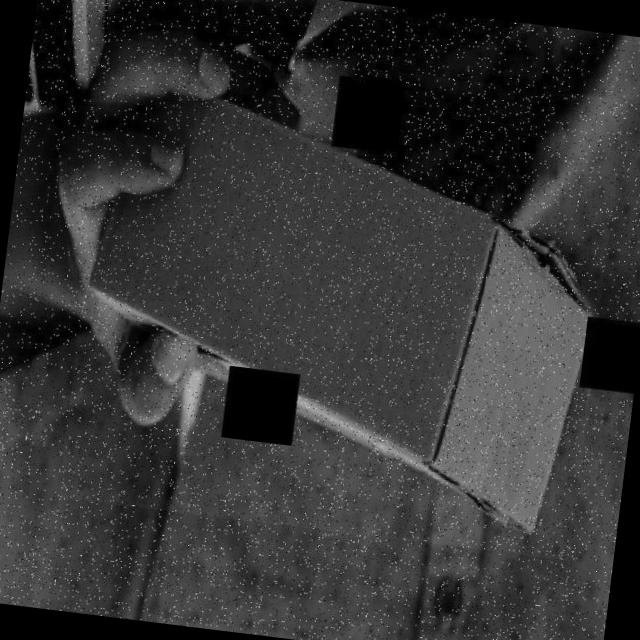box: (57, 37, 626, 560)
